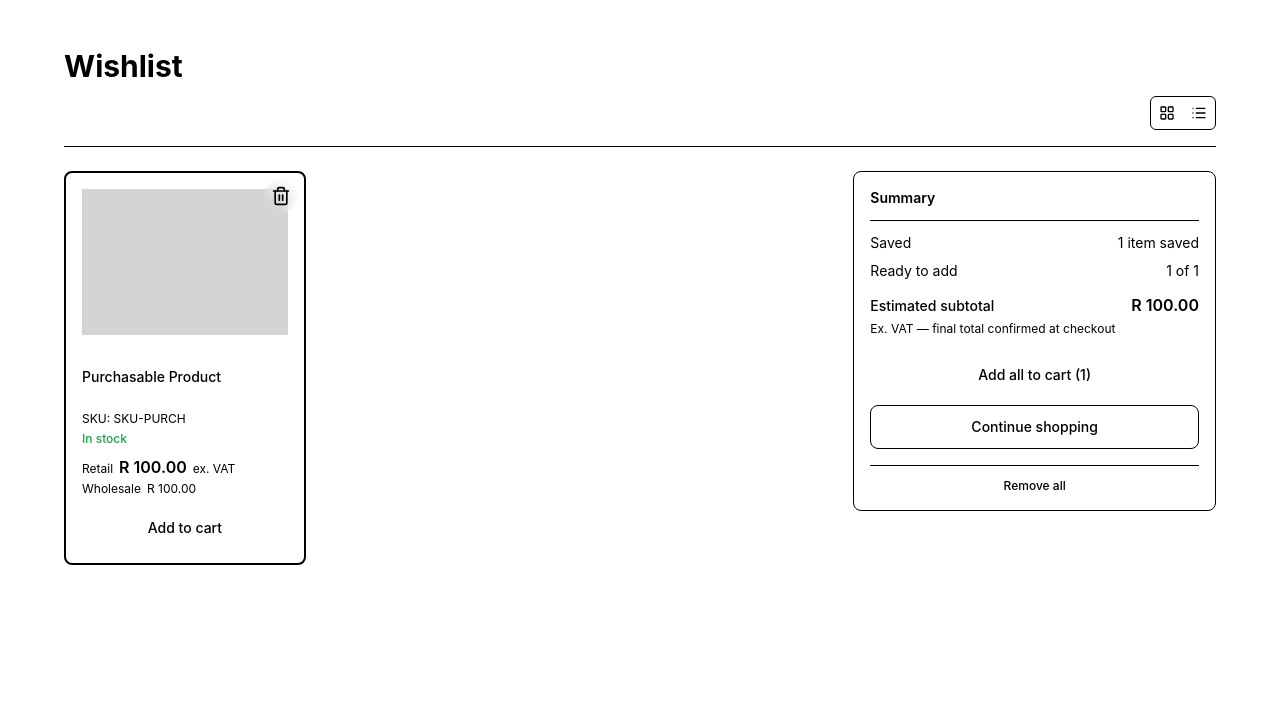
Scenario: WishlistPage › bulk add › Cancel in the dialog writes nothing
The image size is (1280, 720).
Click the button "Add all to cart (1)".
click(1035, 375)  # box [870,353,1199,397]
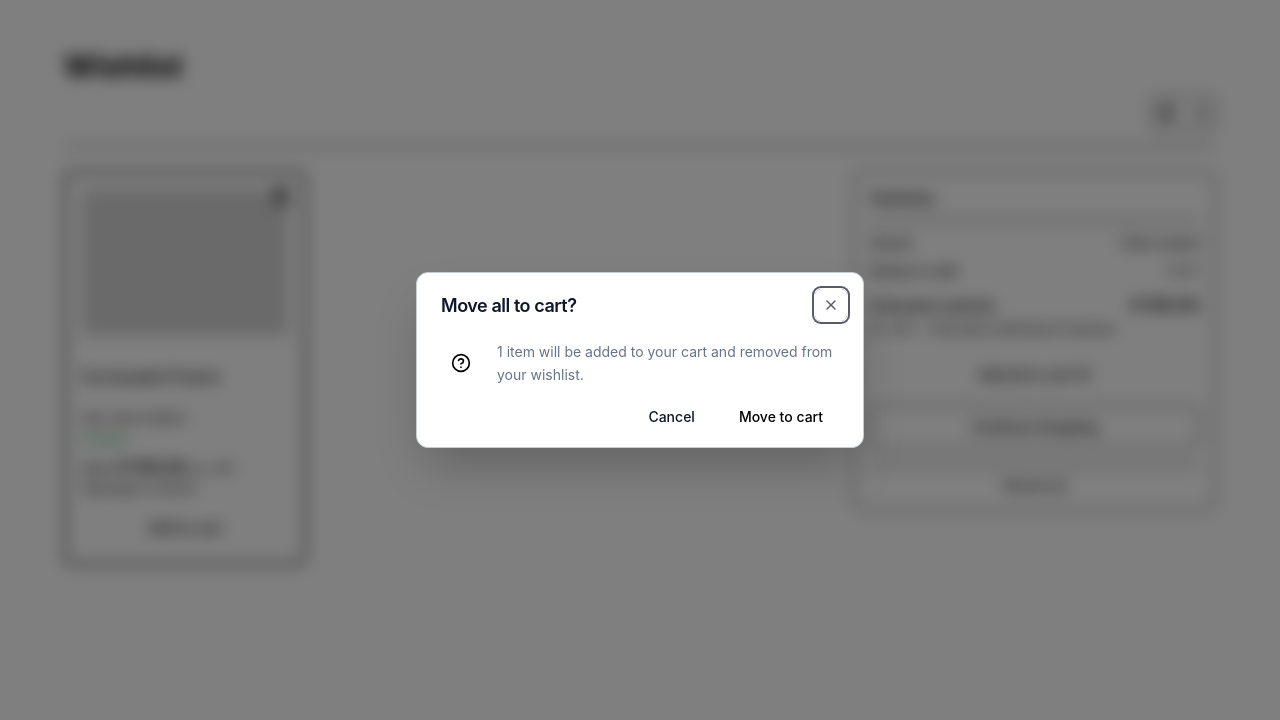
Click the button "Cancel".
click(672, 417)  # box [632,407,711,427]
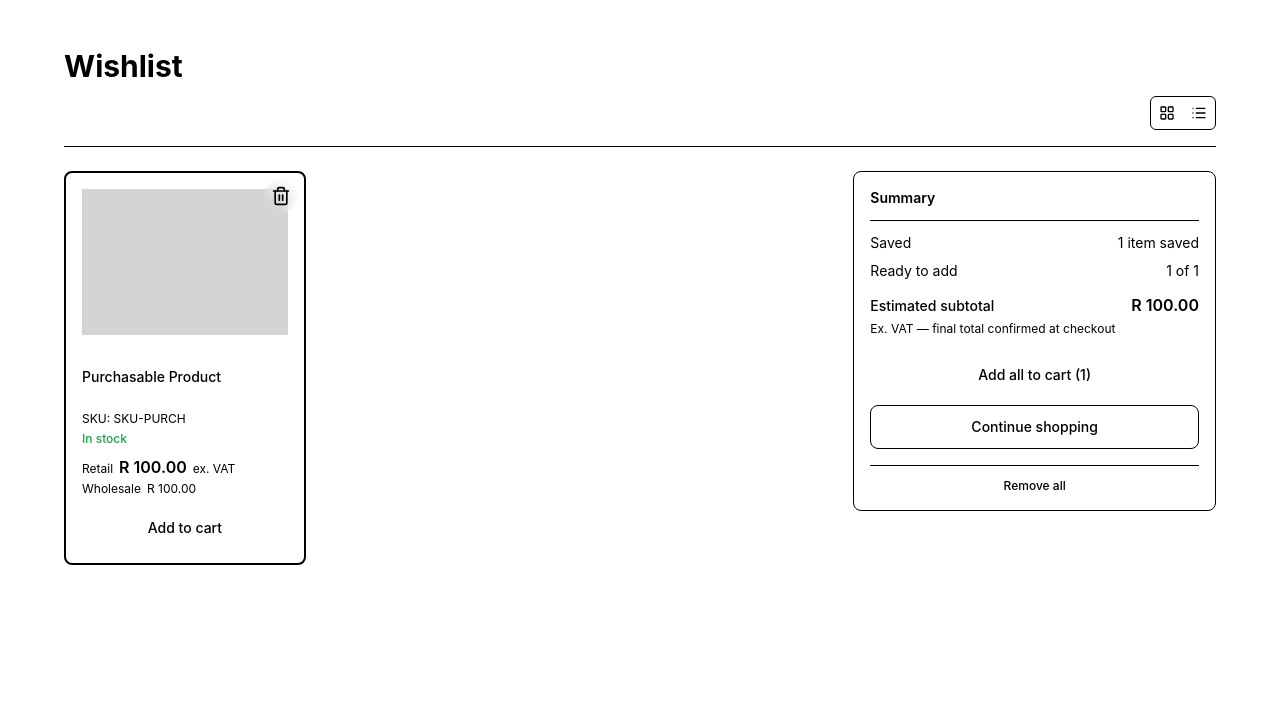
Now the text "Move all to cart?" is gone
